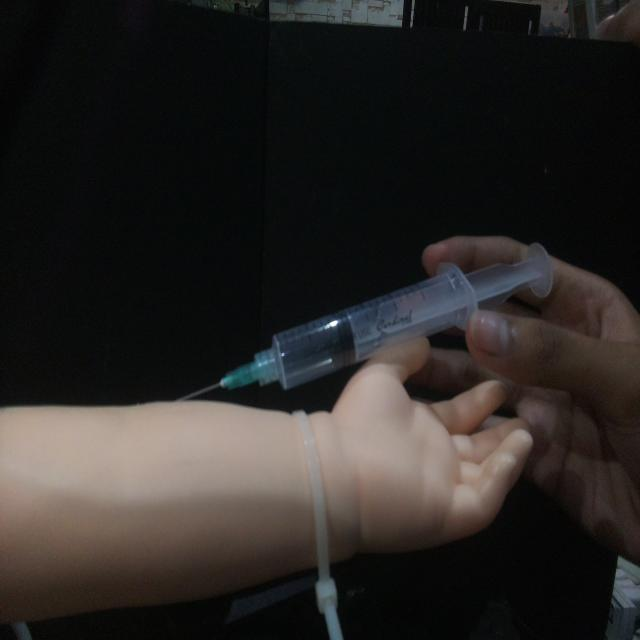17deg: (174, 239, 556, 404)
